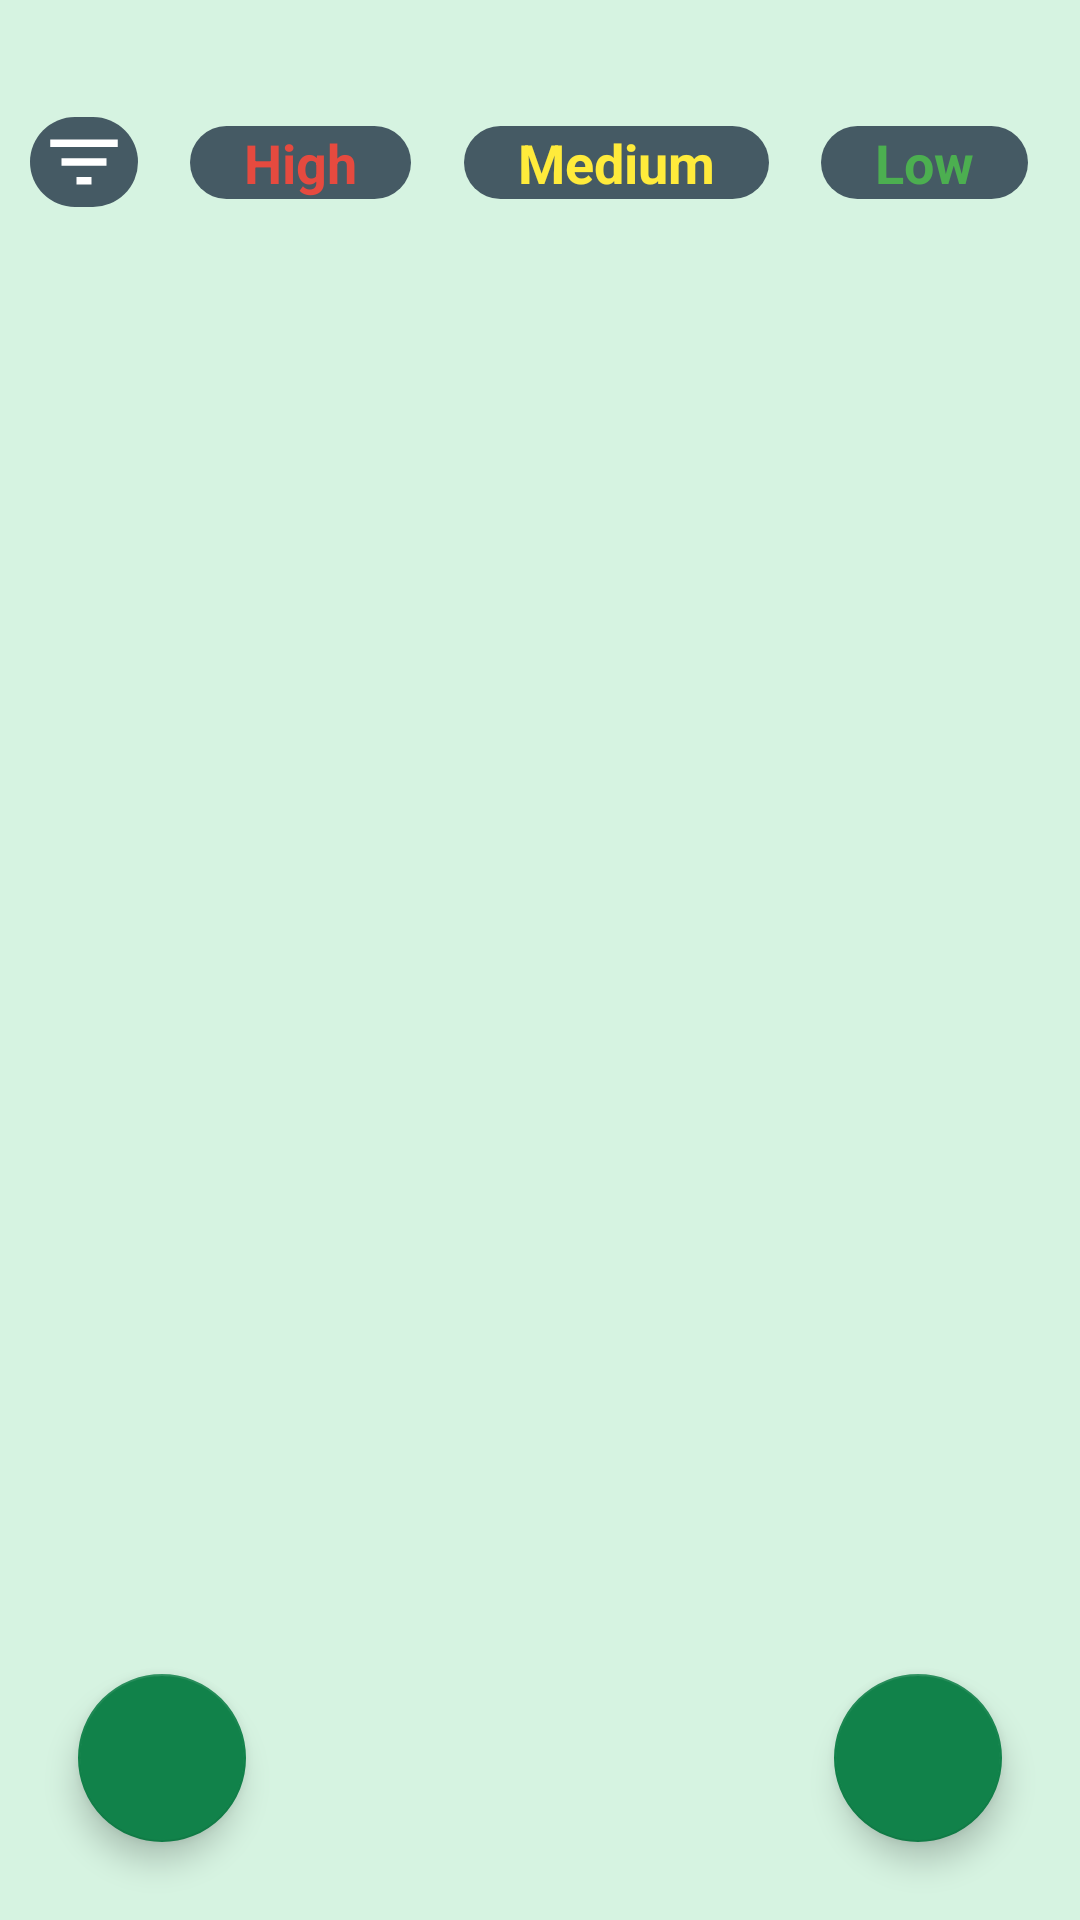

Where to tap for icons on this 1080w x 1920h app screen, as (x=x, y=y):
filter: (x=84, y=162)
